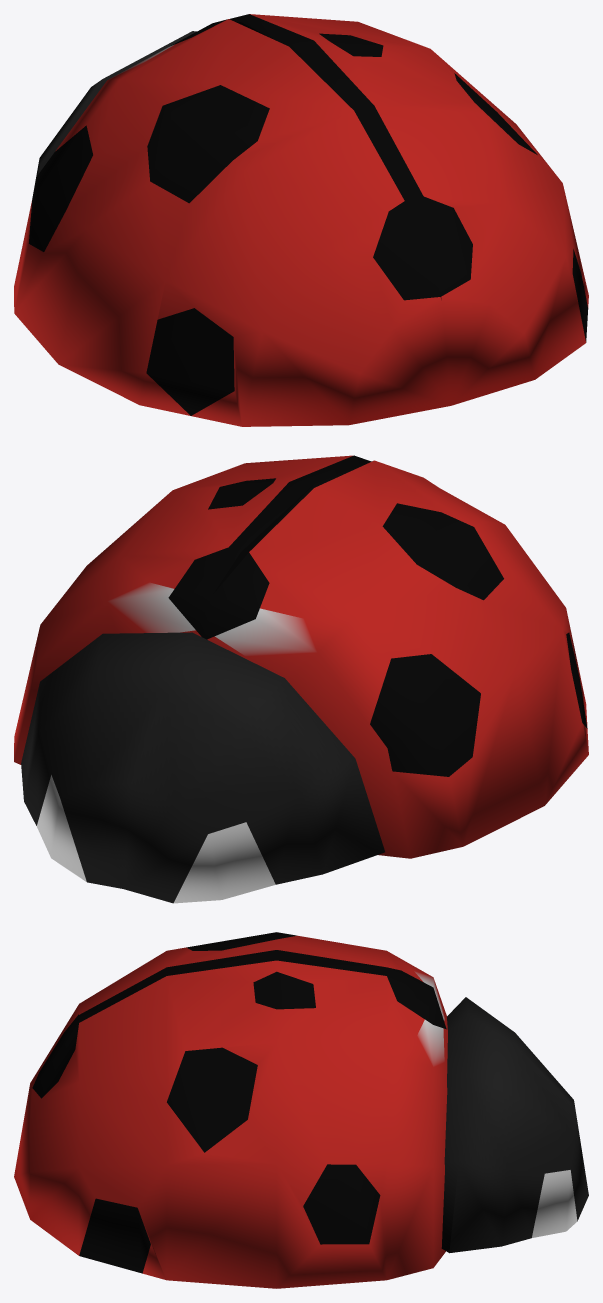
Rendered from hat_ladybug.glb.
3 renders of one model, top to bottom at view 1: azimuth 30°, elevation 25°; view 2: azimuth 150°, elevation 25°; view 3: azimuth 270°, elevation 25°, orthographic. The views are drawn at different scales.
Parts seen in each view (by area): view 1: hat_ladybug; view 2: hat_ladybug; view 3: hat_ladybug.
Boxes of the visible parts, x1,y1,x2,y2 form: hat_ladybug: (14, 14, 588, 426); hat_ladybug: (14, 455, 588, 903); hat_ladybug: (14, 932, 588, 1288).
Size of the model in its own units: 0.3368 by 0.1869 by 0.393.
